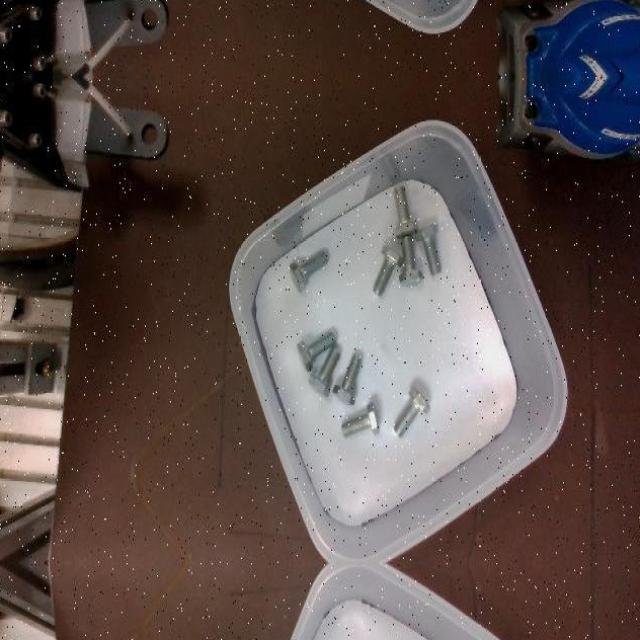screw: (383, 186, 418, 239), (393, 387, 430, 437), (308, 346, 341, 396), (297, 331, 336, 372), (289, 250, 327, 292), (373, 244, 404, 295), (332, 354, 362, 404), (414, 224, 442, 276), (340, 401, 379, 437), (398, 235, 422, 286)
